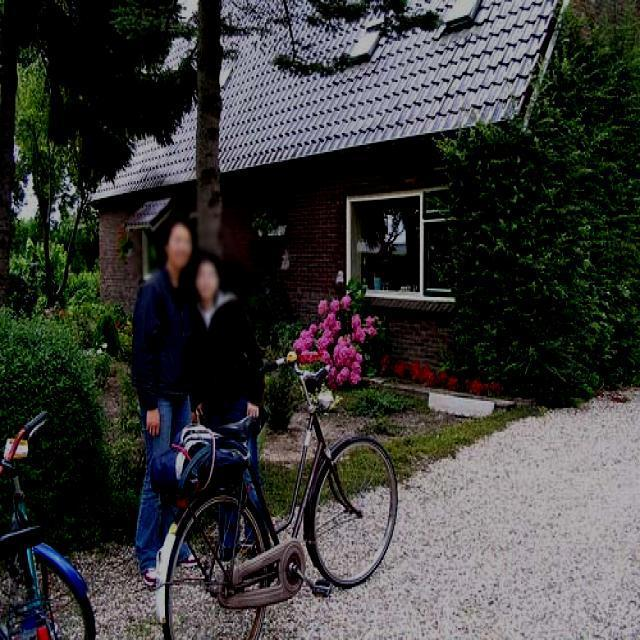bicycle: (155, 352, 406, 638), (128, 218, 200, 584), (189, 254, 268, 576)
